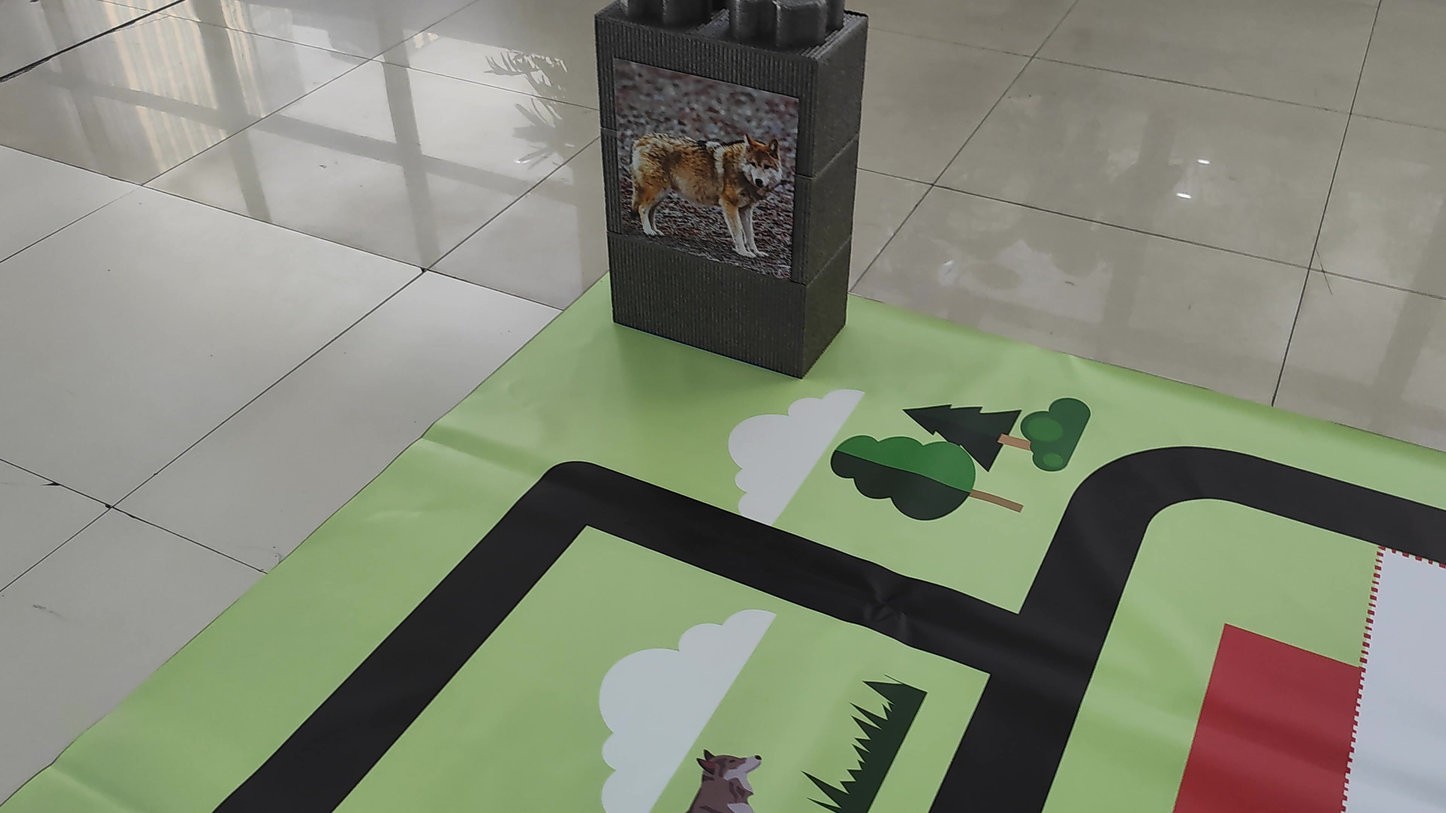wolf: (613, 59, 786, 262)
